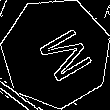M_SW: (23, 20, 89, 86)
